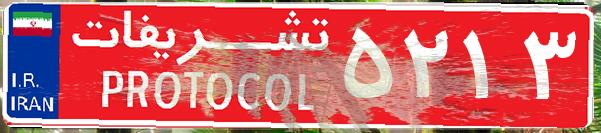1: (460, 20, 520, 115)
2: (400, 20, 460, 115)
3: (520, 20, 580, 115)
5: (340, 20, 400, 115)
تشریفات: (60, 8, 340, 125)
